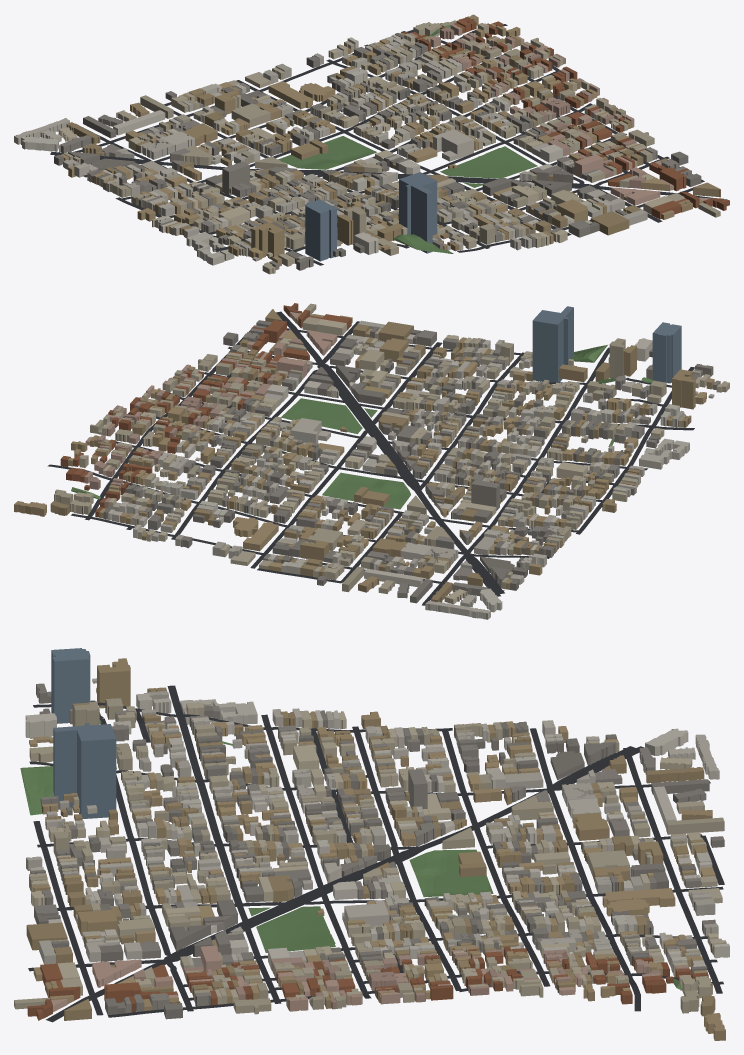
The model's file is tile_12_9.glb.
The picture shows the model from 3 angles, top to bottom: view 1: azimuth 30°, elevation 25°; view 2: azimuth 150°, elevation 25°; view 3: azimuth 270°, elevation 25°; orthographic projection. The views are drawn at different scales.
Parts seen in each view (by area): view 1: bld_12_9, road_12_9, grn_12_9; view 2: bld_12_9, road_12_9, grn_12_9; view 3: bld_12_9, road_12_9, grn_12_9.
Boxes of the visible parts, left/top/right/bottom form: bld_12_9: left=14, top=14, right=729, bottom=274; road_12_9: left=50, top=24, right=727, bottom=265; grn_12_9: left=278, top=25, right=537, bottom=253; bld_12_9: left=14, top=303, right=729, bottom=619; road_12_9: left=47, top=311, right=694, bottom=605; grn_12_9: left=71, top=345, right=653, bottom=509; bld_12_9: left=14, top=648, right=729, bottom=1040; road_12_9: left=28, top=685, right=724, bottom=1022; grn_12_9: left=20, top=720, right=682, bottom=990.
Bounding box in the file's own units: 835 × 167 × 839.
